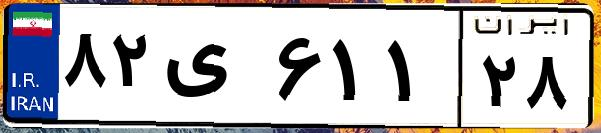1: (385, 28, 445, 110), (330, 28, 385, 110)
2: (475, 38, 525, 113), (110, 28, 158, 98)
6: (270, 28, 330, 110)
8: (57, 26, 110, 100), (525, 38, 570, 115)
ی: (158, 20, 270, 120)
